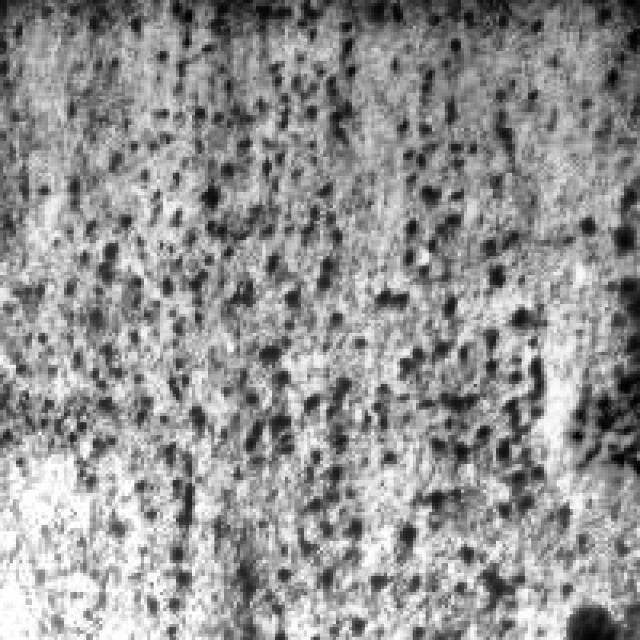Rolled_in_Scale: (0, 0, 621, 634)
